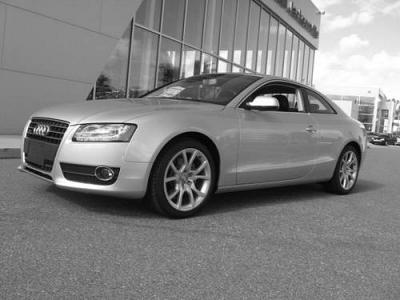car: (19, 69, 369, 221)
